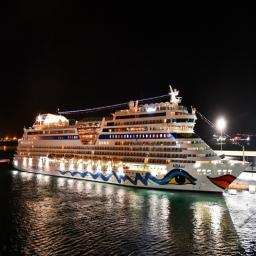cruises: (12, 92, 254, 196)
